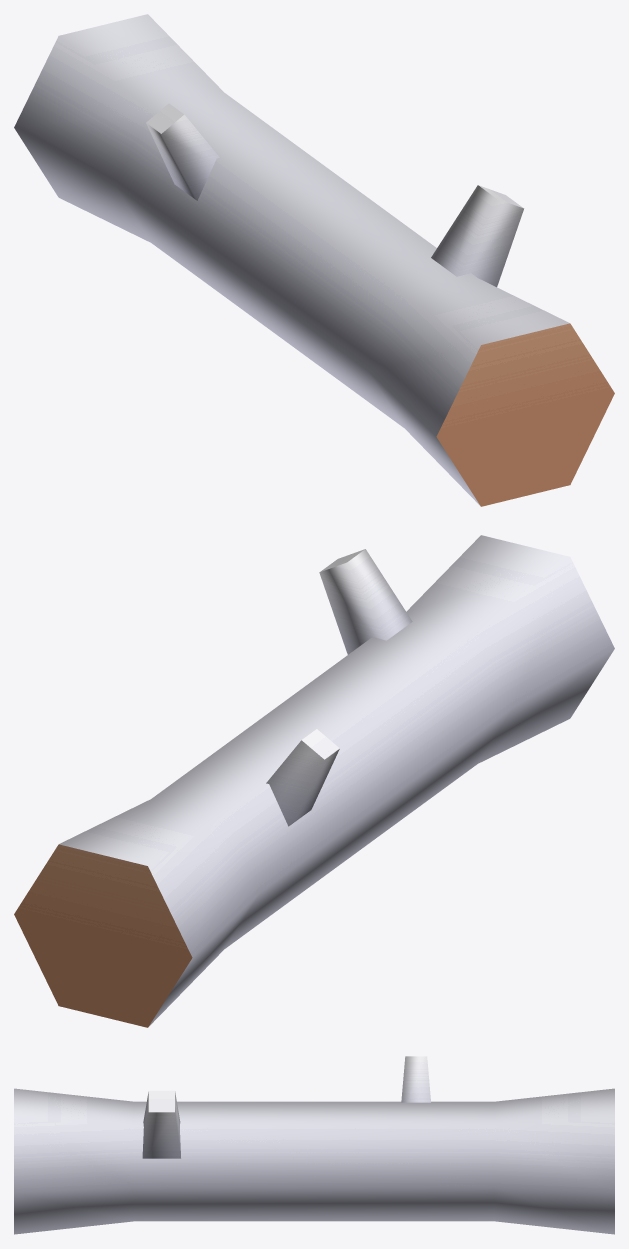
File: tree-log.glb
3 views of the same model, one above another, from view 1: azimuth 30°, elevation 25°; view 2: azimuth 150°, elevation 25°; view 3: azimuth 270°, elevation 25° (orthographic). The views are drawn at different scales.
Visible parts, largest first — view 1: tree-log; view 2: tree-log; view 3: tree-log.
Boxes of the visible parts, x1,y1,x2,y2 form: tree-log: [14, 14, 614, 506]; tree-log: [14, 535, 614, 1027]; tree-log: [14, 1056, 614, 1234].
Size of the model in its own units: 0.7485 by 0.8314 by 3.
1 material, 1 textured.
